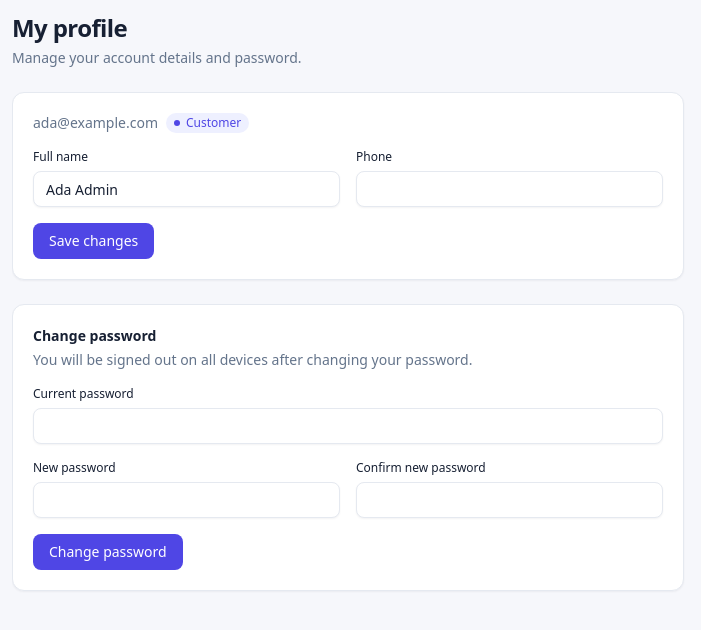
Test: ProfilePage › validates the new password rules and confirmation locally
Type "old" into the password field labelled "Current password" at (348, 426), box [33, 408, 663, 444]
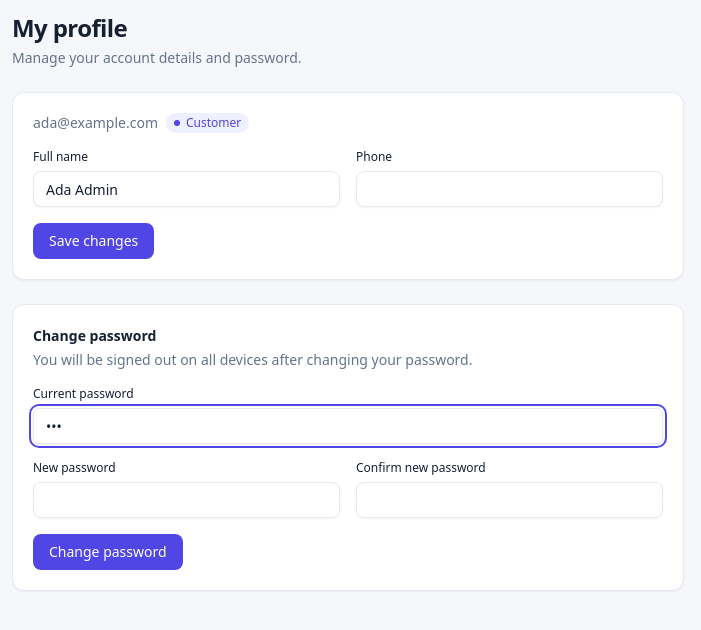
Type "Passw0rdOK" into the password field labelled "New password" at (186, 500), box [33, 482, 340, 518]
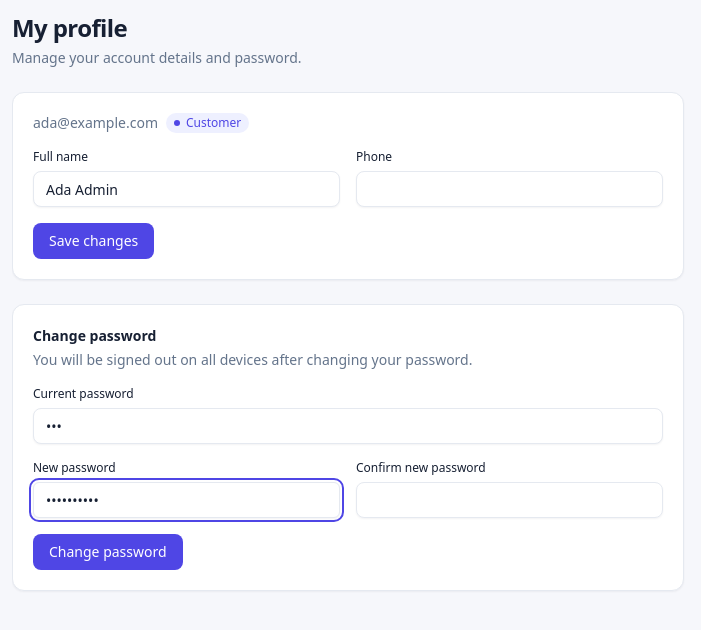
Type "Different1" into the password field labelled "Confirm new password" at (510, 500), box [356, 482, 663, 518]
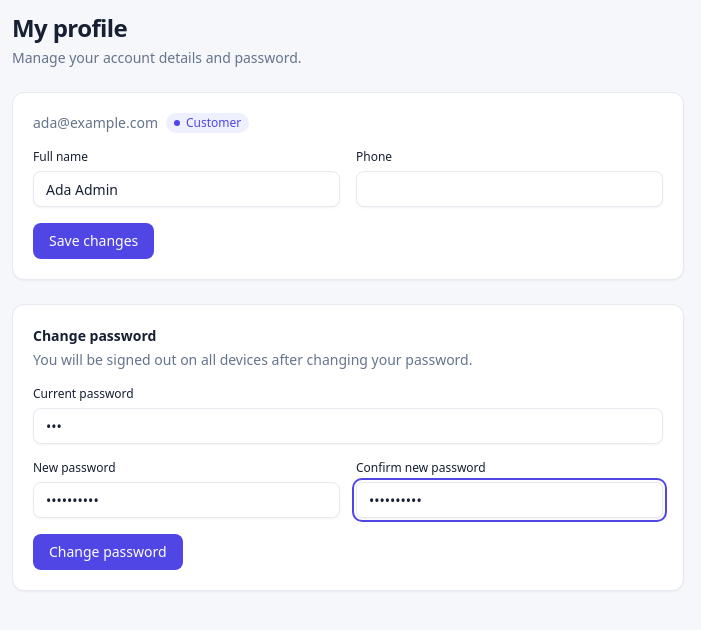
Click the button "Change password" at (108, 552), box [33, 534, 183, 570]
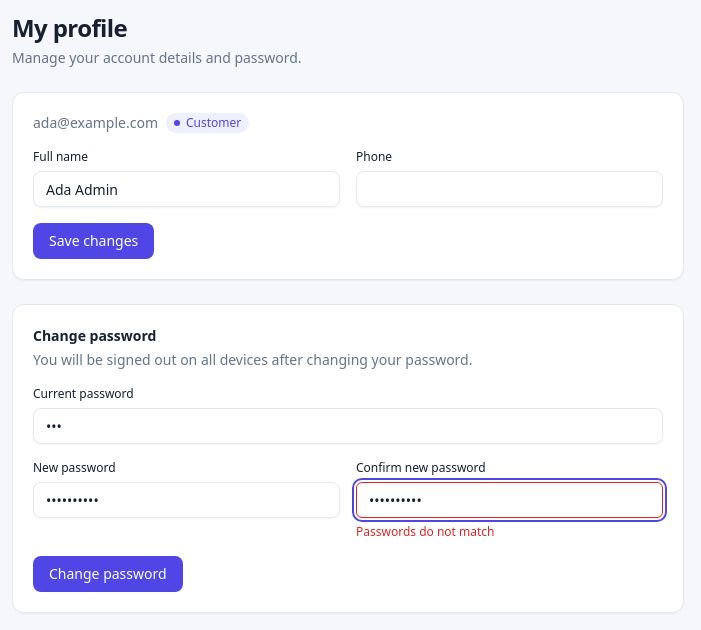
Now the text "Passwords do not match" is shown, box [356, 523, 494, 540]
